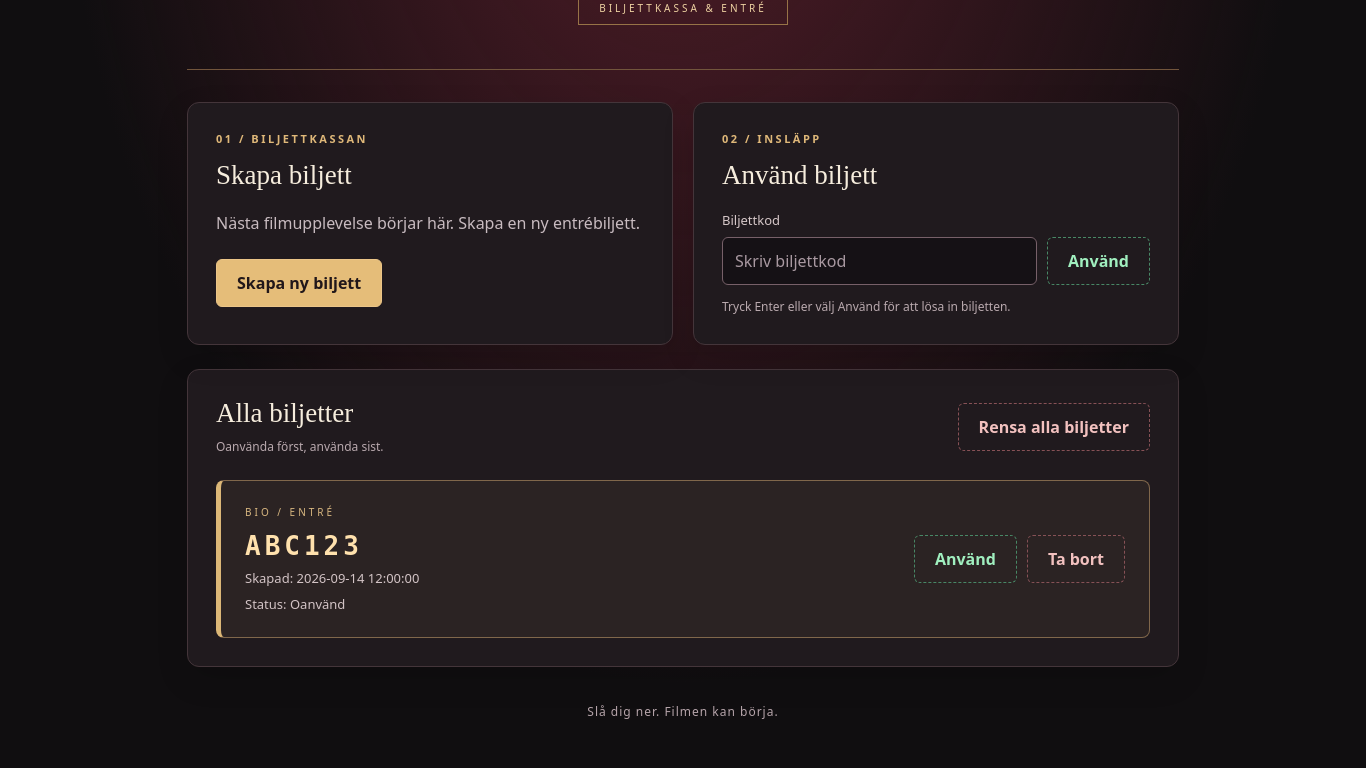
Test: Ticket system › should delete an unused ticket and refresh the list
(page scrolled)
Click the button "Ta bort": (1076, 559) [1027,535,1125,583]
(page scrolled)
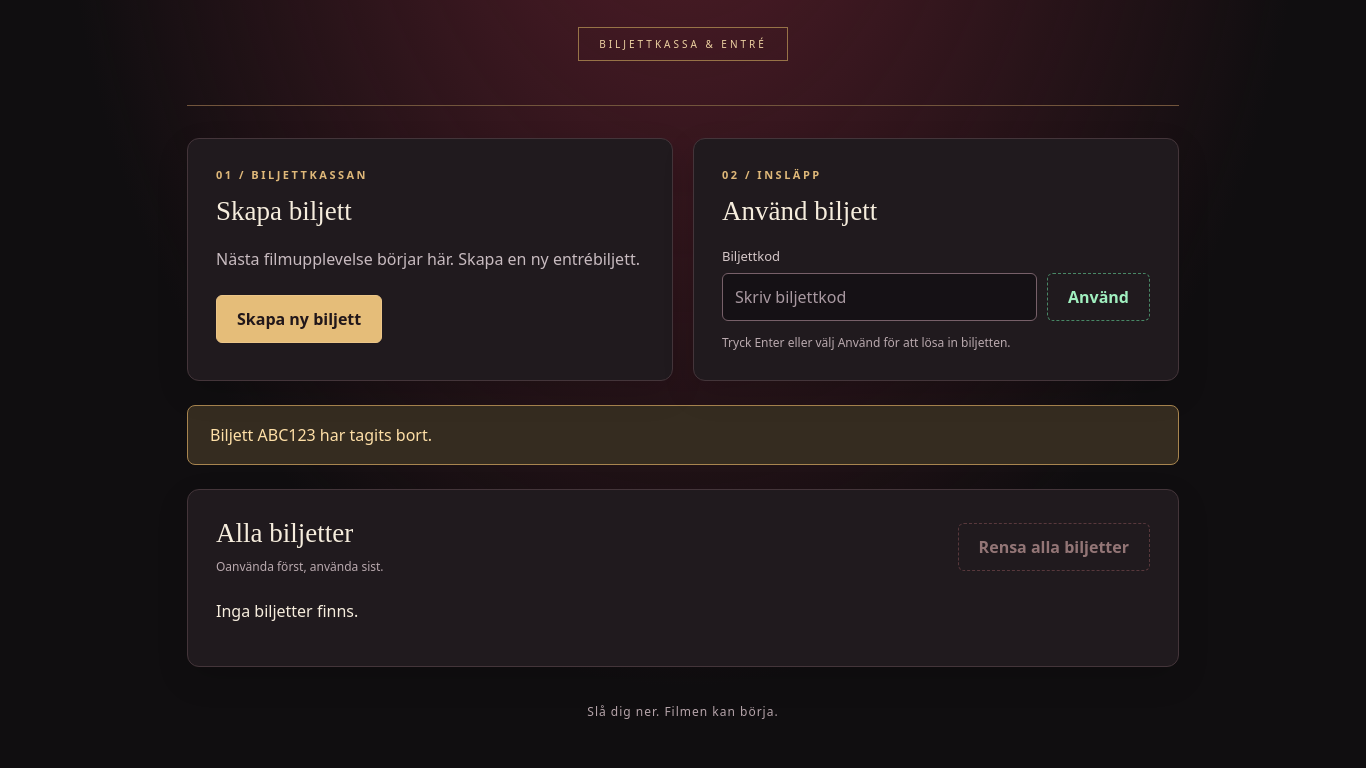
Expected: the text "Biljett ABC123 har tagits bort." is shown, [187,405,1179,465]
Expected: the text "Inga biljetter finns." is shown, [216,600,358,622]
